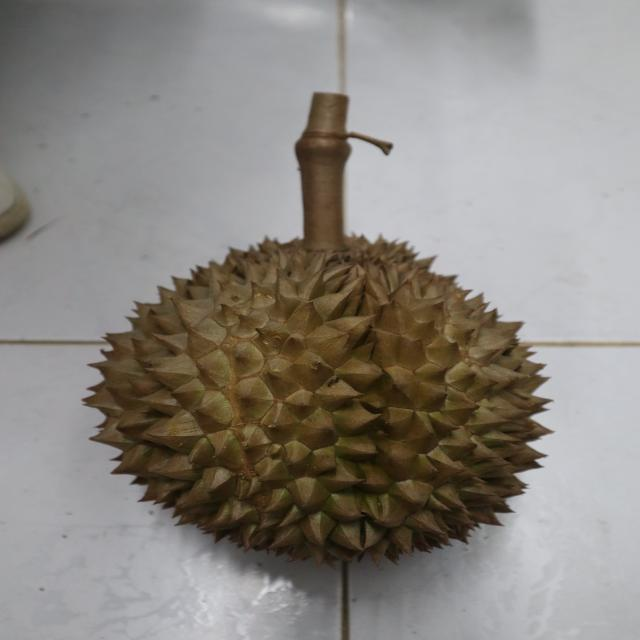mature: (80, 230, 558, 568)
